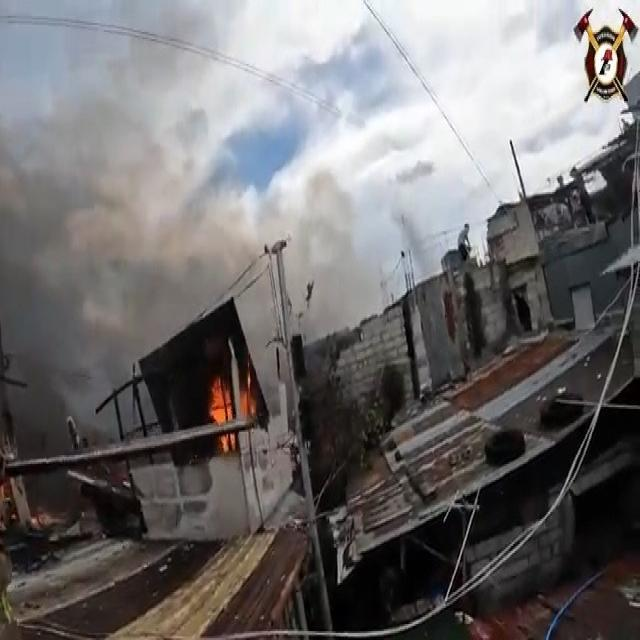Fire: (208, 366, 256, 452)
Smoke: (0, 81, 265, 518)
